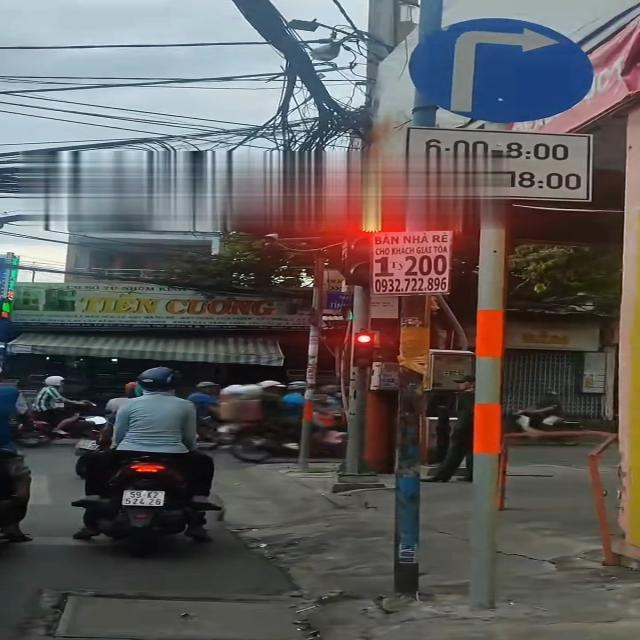301d-cac-xe-chi-duoc-re-phai-2: (412, 17, 596, 127)
